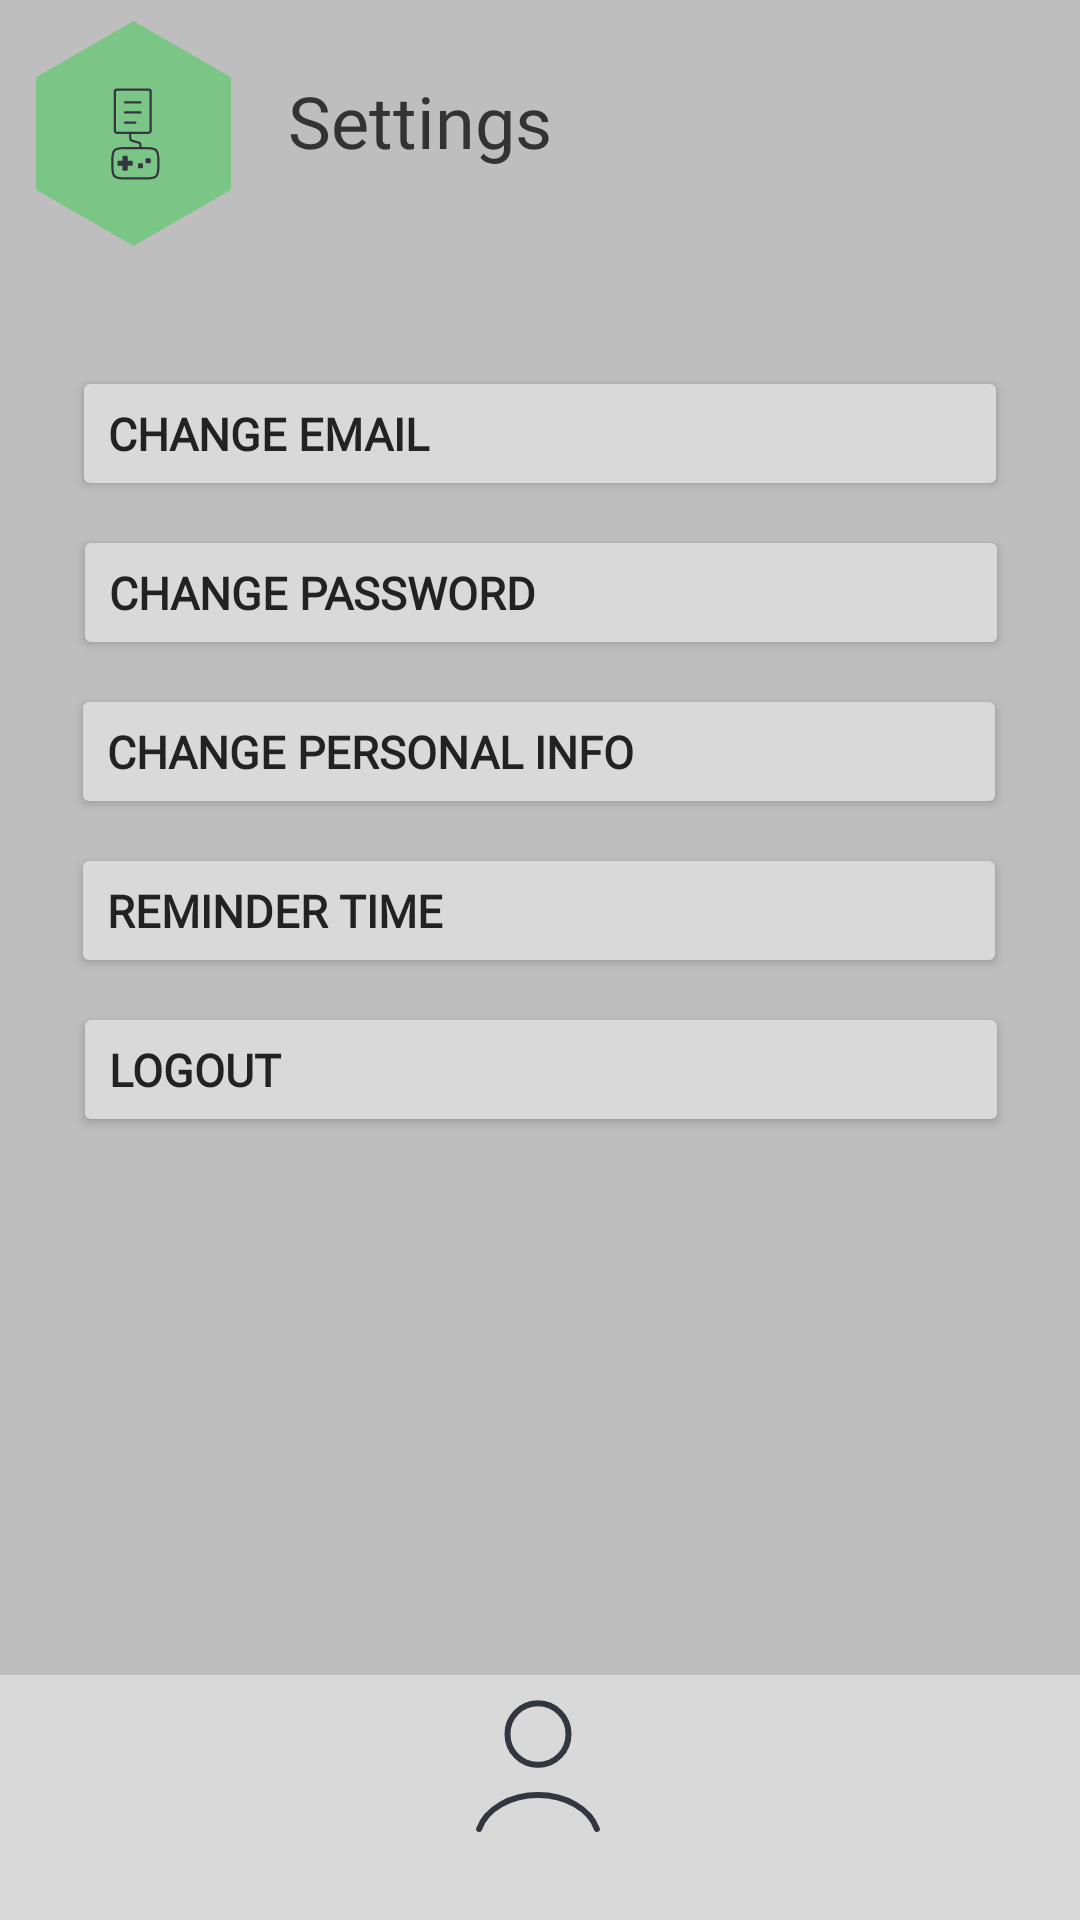

Screen size 1080×1920. Icon name, then its center in pixels as [x,y]:
user: [538,1766]
